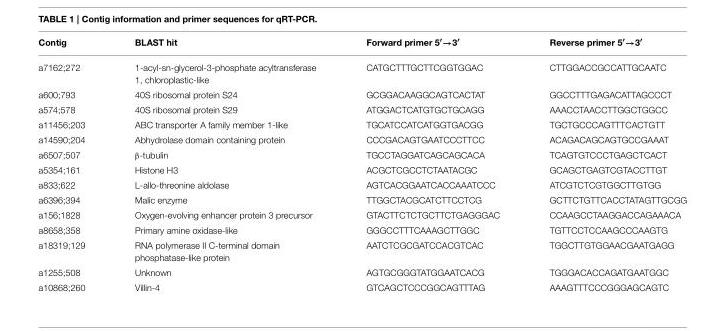table: (37, 37, 686, 291)
table column: (109, 37, 340, 291), (340, 37, 523, 291), (523, 37, 686, 291), (37, 37, 109, 291)
table column header: (37, 37, 686, 54)
table row: (37, 54, 686, 87), (37, 237, 686, 264), (37, 37, 686, 54), (37, 87, 686, 102), (37, 102, 686, 117), (37, 117, 686, 132), (37, 132, 686, 147), (37, 147, 686, 162), (37, 162, 686, 177), (37, 177, 686, 192), (37, 192, 686, 207), (37, 207, 686, 222), (37, 222, 686, 237), (37, 264, 686, 279), (37, 279, 686, 291)
